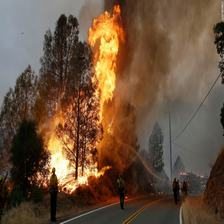fire: (37, 3, 130, 190)
